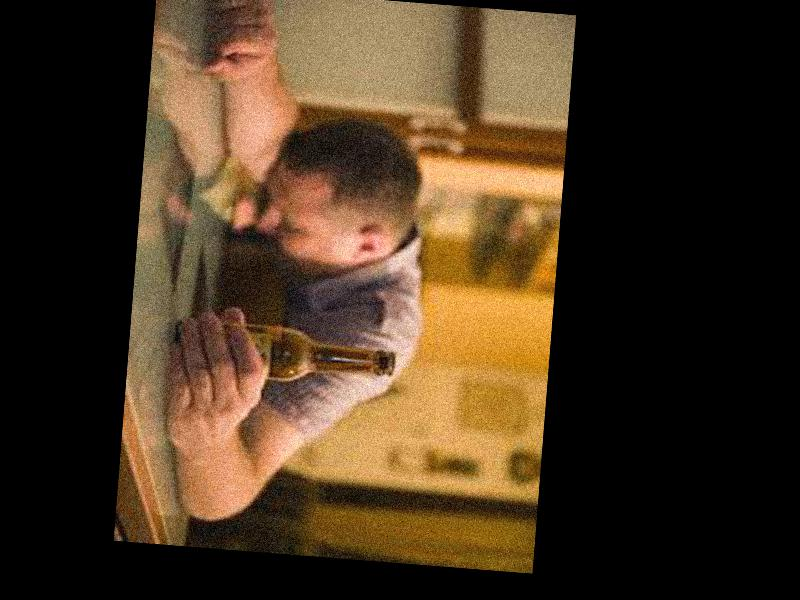Beer: (170, 320, 398, 386)
